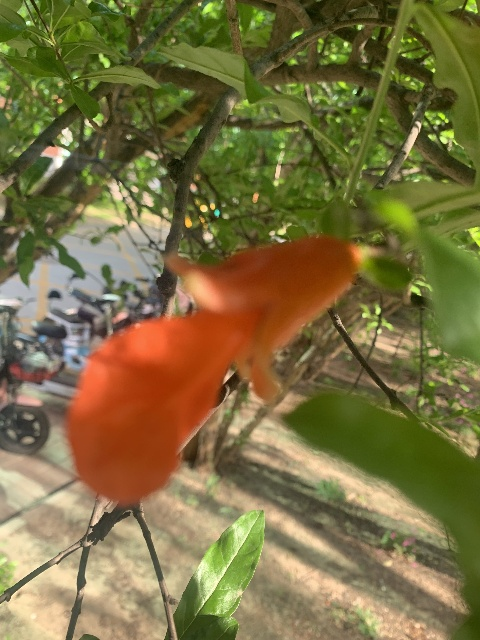flower: (68, 238, 360, 506)
